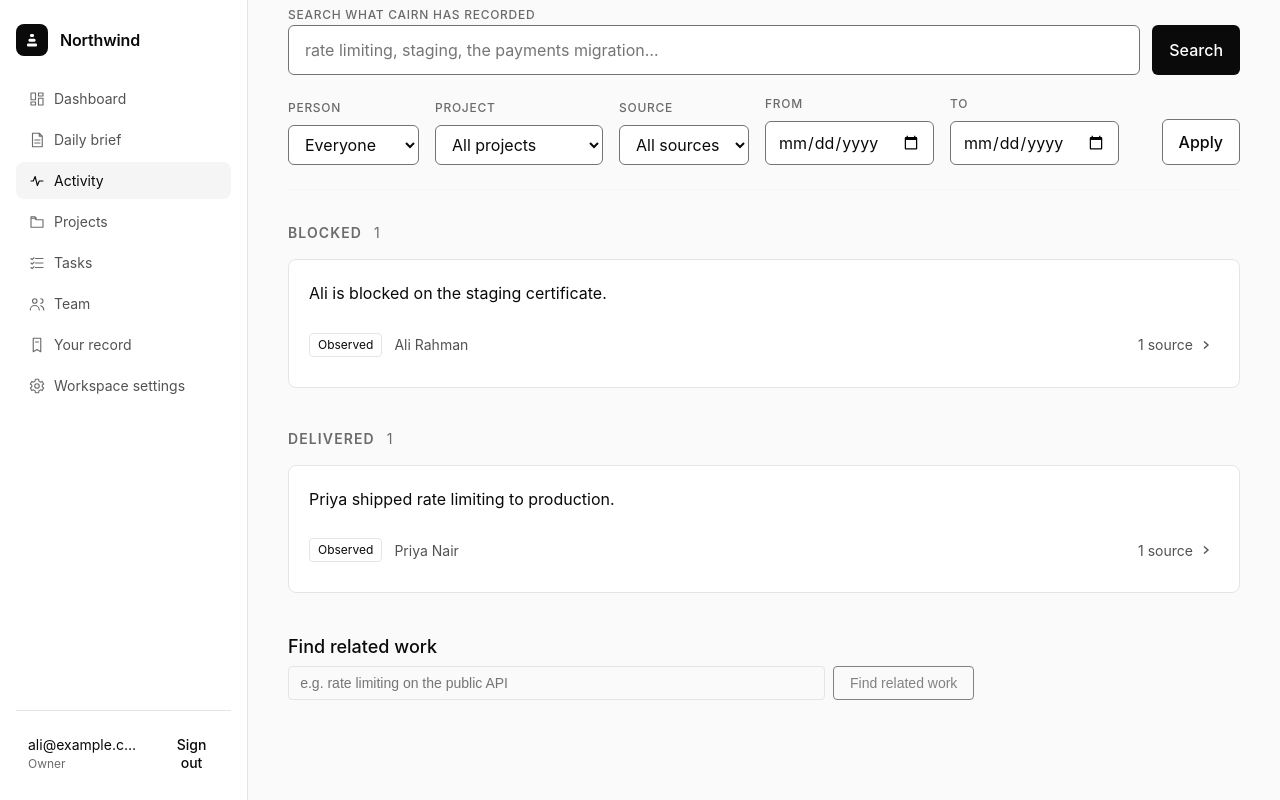
the related-work finder › reports a failed search without inventing anything
(page scrolled)
Type "rate limiting" into the search field named "task or topic to find related work" at (556, 684), box [288,666,825,700]
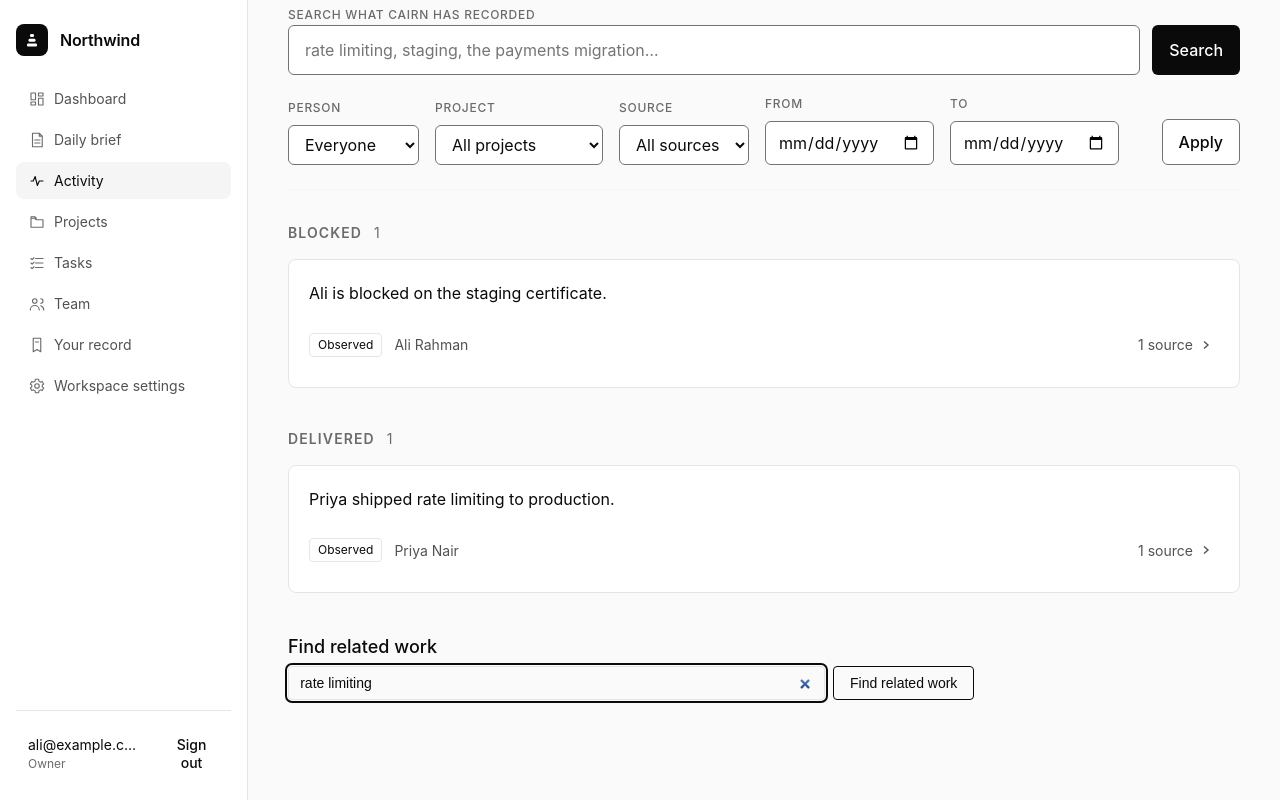
Click the button "Find related work" at (904, 684), box [833,666,974,700]
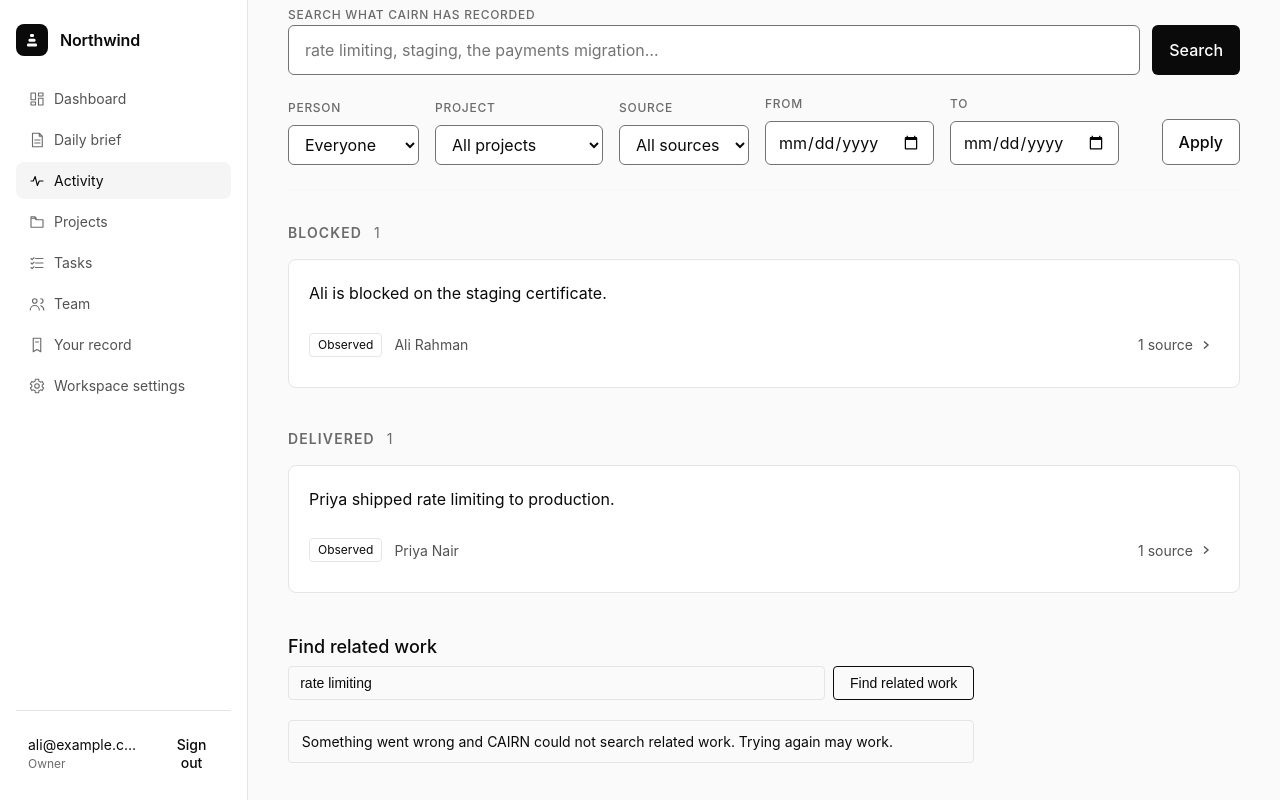
Now the message is shown, box [288,720,974,763]
